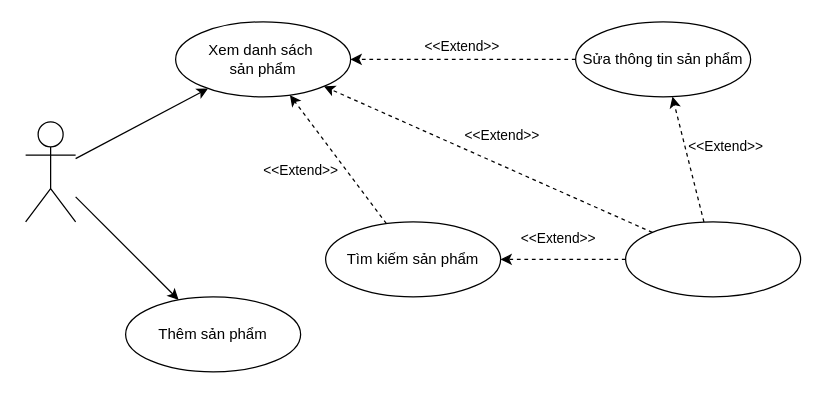
Image size: 823x394. Some labels were removed from this diagram. The centre of each missing label's shape, as x and y in pixels:
"Quản trị" goes at point (50, 171).
"Xóa sản phẩm" goes at point (712, 259).
